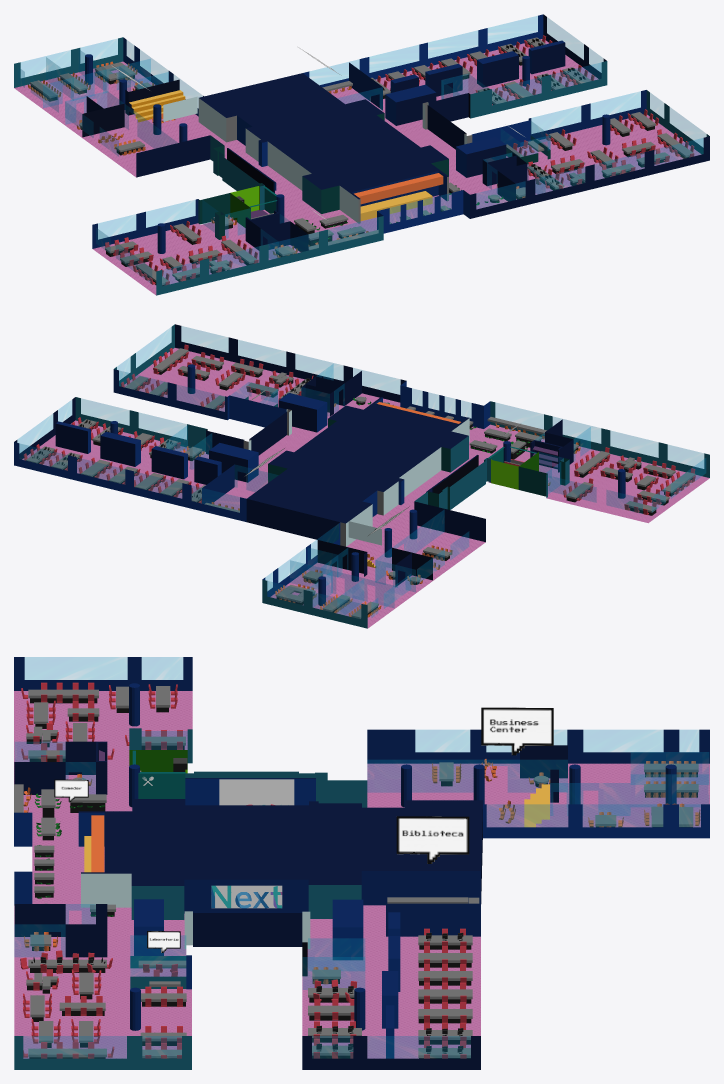
The model's file is manoteras.obj.
The picture shows the model from 3 angles, top to bottom: view 1: azimuth 30°, elevation 25°; view 2: azimuth 150°, elevation 25°; view 3: azimuth 270°, elevation 25°; orthographic projection. The views are drawn at different scales.
Visible parts, largest first — view 1: interactparedes_Plane, suelo_Plane.001, interactcristaleras_Plane.004, sillas_Cube.198, mesas_Cube.043, interactAlacena_Cube.008, patas_Cube.044, interactProyectos_Cube.010, interactComedor_Cube.000, sillasOficina_Plane.144, interactBancada_Plane.010, pantalla_Plane.208 (+1 smaller); view 2: interactparedes_Plane, suelo_Plane.001, interactcristaleras_Plane.004, sillas_Cube.198, mesas_Cube.043, patas_Cube.044, interactProyectos_Cube.010, interactComedor_Cube.000, sillasOficina_Plane.144, interactCocina_Cube.006, pantalla_Plane.208; view 3: interactparedes_Plane, suelo_Plane.001, interactcristaleras_Plane.004, mesas_Cube.043, sillas_Cube.198, patas_Cube.044, interactProyectos_Cube.010, cartelBiblio_Plane.009, cartelBusiness_Plane.007, sillasOficina_Plane.144, cartelBBVA_Plane.002, interactComedor_Cube.000 (+9 smaller).
Part boxes in pixels (left/top/right/bottom): interactparedes_Plane: left=14, top=14, right=709, bottom=295; suelo_Plane.001: left=14, top=39, right=701, bottom=295; interactcristaleras_Plane.004: left=43, top=49, right=544, bottom=258; sillas_Cube.198: left=105, top=35, right=694, bottom=285; mesas_Cube.043: left=30, top=51, right=693, bottom=256; interactAlacena_Cube.008: left=354, top=173, right=443, bottom=220; patas_Cube.044: left=30, top=43, right=689, bottom=286; interactProyectos_Cube.010: left=105, top=223, right=256, bottom=285; interactComedor_Cube.000: left=294, top=182, right=499, bottom=250; sillasOficina_Plane.144: left=27, top=61, right=525, bottom=257; interactBancada_Plane.010: left=129, top=90, right=185, bottom=122; pantalla_Plane.208: left=163, top=96, right=197, bottom=121; interactparedes_Plane: left=14, top=324, right=709, bottom=628; suelo_Plane.001: left=22, top=348, right=709, bottom=628; interactcristaleras_Plane.004: left=166, top=364, right=590, bottom=614; sillas_Cube.198: left=23, top=344, right=695, bottom=514; mesas_Cube.043: left=81, top=348, right=578, bottom=618; patas_Cube.044: left=37, top=354, right=692, bottom=619; interactProyectos_Cube.010: left=566, top=451, right=695, bottom=512; interactComedor_Cube.000: left=356, top=396, right=546, bottom=453; sillasOficina_Plane.144: left=180, top=403, right=580, bottom=617; interactCocina_Cube.006: left=488, top=446, right=557, bottom=482; pantalla_Plane.208: left=348, top=521, right=381, bottom=545; interactparedes_Plane: left=14, top=657, right=709, bottom=1069; suelo_Plane.001: left=14, top=691, right=709, bottom=1058; interactcristaleras_Plane.004: left=14, top=741, right=709, bottom=989; mesas_Cube.043: left=26, top=762, right=698, bottom=1058; sillas_Cube.198: left=20, top=682, right=466, bottom=1058; patas_Cube.044: left=26, top=698, right=697, bottom=1058; interactProyectos_Cube.010: left=26, top=686, right=185, bottom=758; cartelBiblio_Plane.009: left=396, top=816, right=469, bottom=863; cartelBusiness_Plane.007: left=481, top=707, right=553, bottom=755; sillasOficina_Plane.144: left=23, top=759, right=700, bottom=984; cartelBBVA_Plane.002: left=219, top=779, right=294, bottom=805; interactComedor_Cube.000: left=14, top=784, right=115, bottom=911.
Size of the model in its own units: 6.51 by 0.6594 by 5.05.
